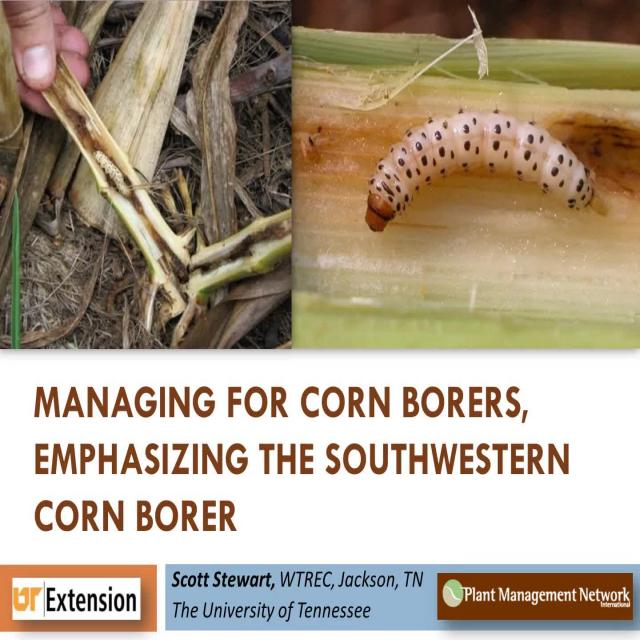cornborer-Larva-: (360, 101, 602, 236), (92, 141, 138, 204)
